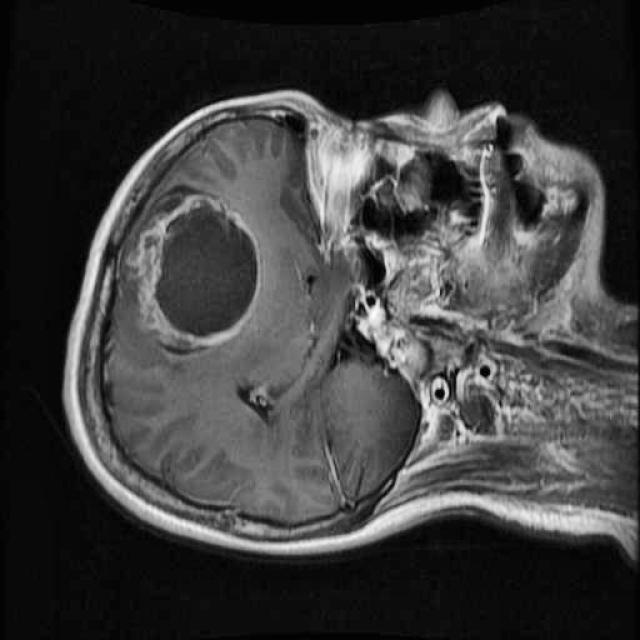Non-Tumor: (118, 172, 285, 362)
